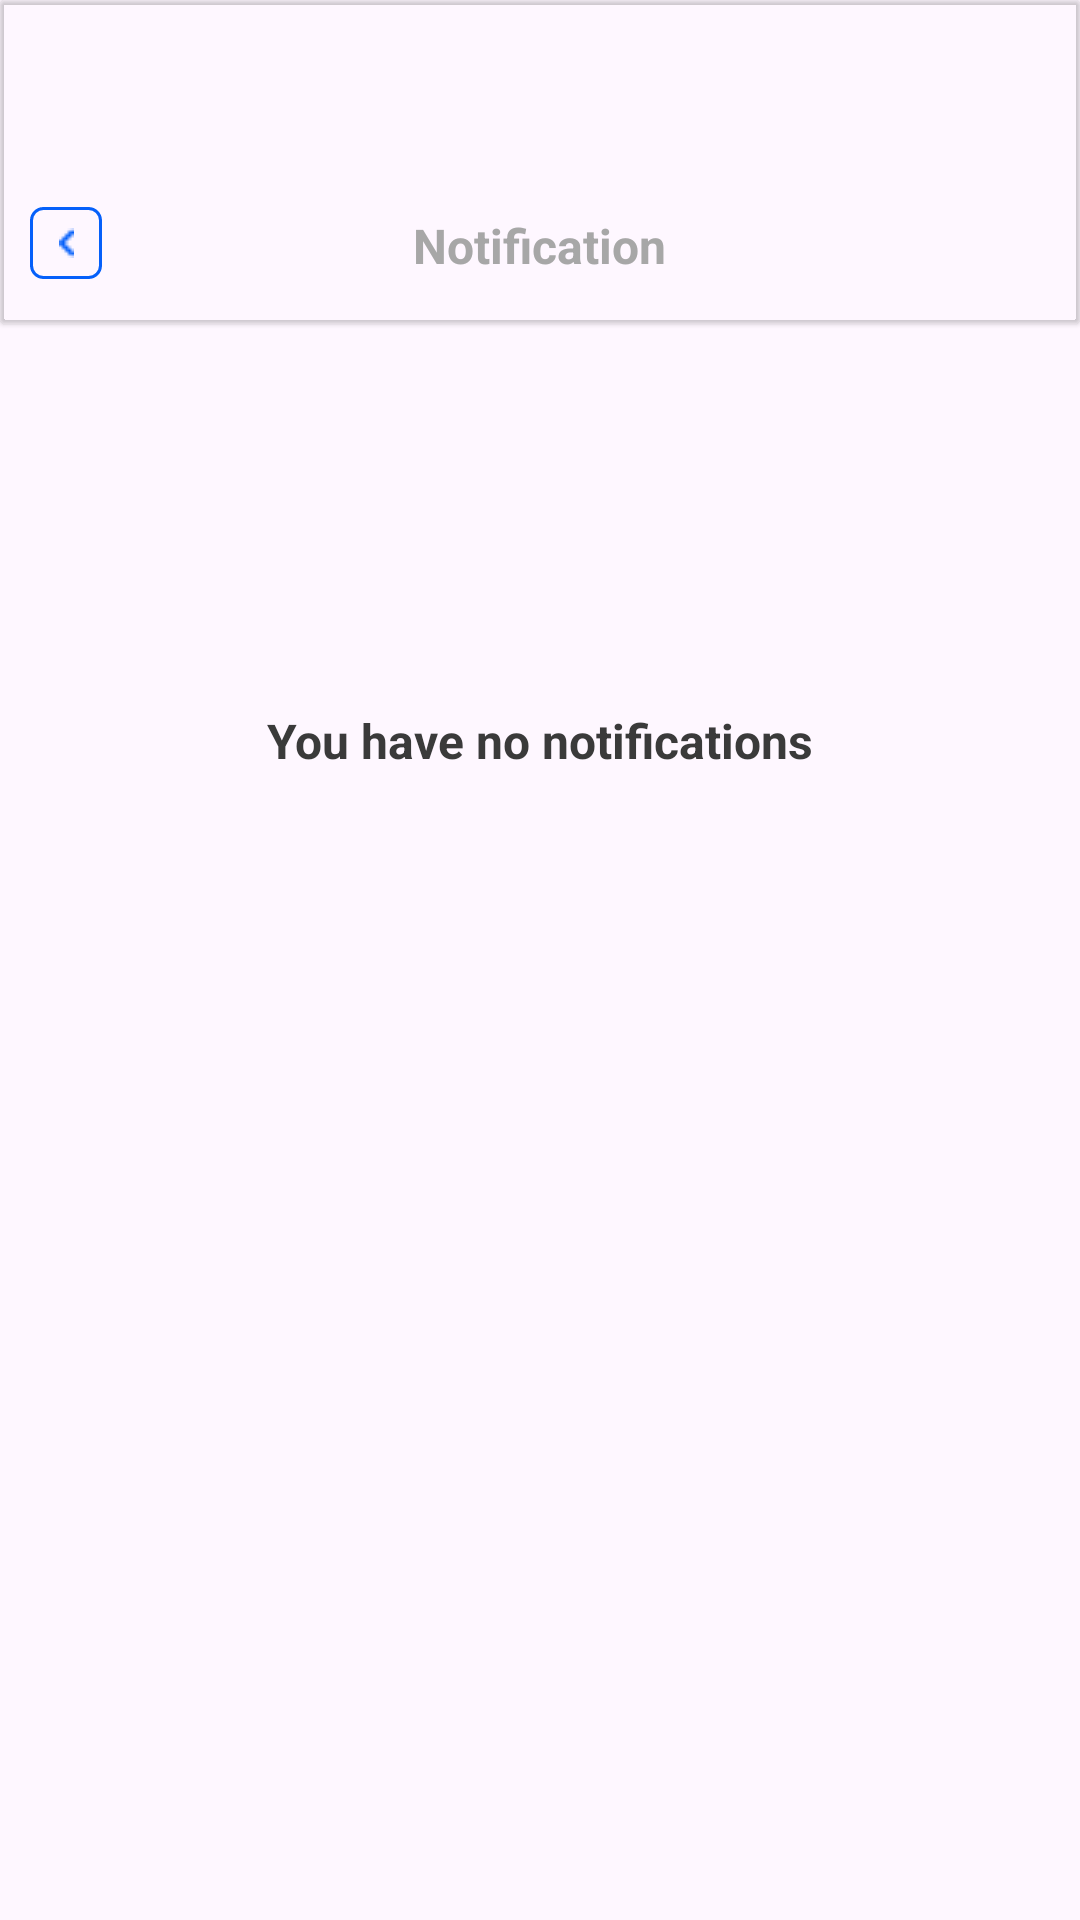

Icon click points for this 1080 × 1920 phone screenshot, format (x,y):
back: (66,243)
